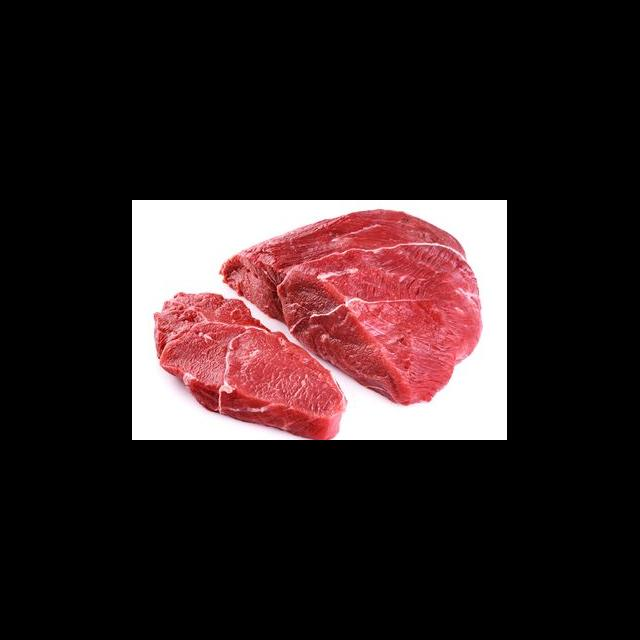beef: (215, 205, 492, 407), (150, 285, 357, 440)
